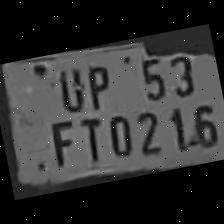0: (100, 106, 136, 160)
1: (158, 99, 190, 154)
2: (128, 104, 164, 158)
3: (161, 46, 198, 99)
5: (132, 50, 172, 104)
6: (182, 97, 222, 150)
F: (42, 112, 81, 170)
P: (78, 58, 115, 111)
T: (71, 111, 108, 166)
U: (49, 59, 88, 115)
